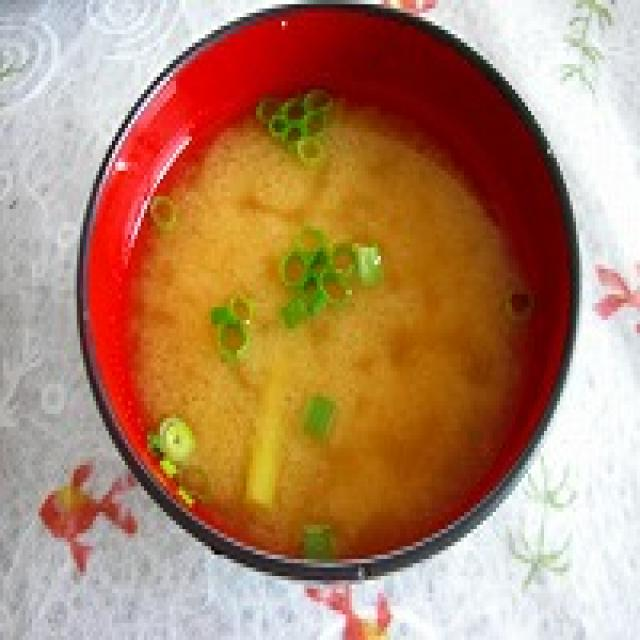汤锅炖物: (61, 0, 582, 585)
